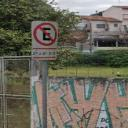NoEstacionar: (32, 20, 58, 49)
